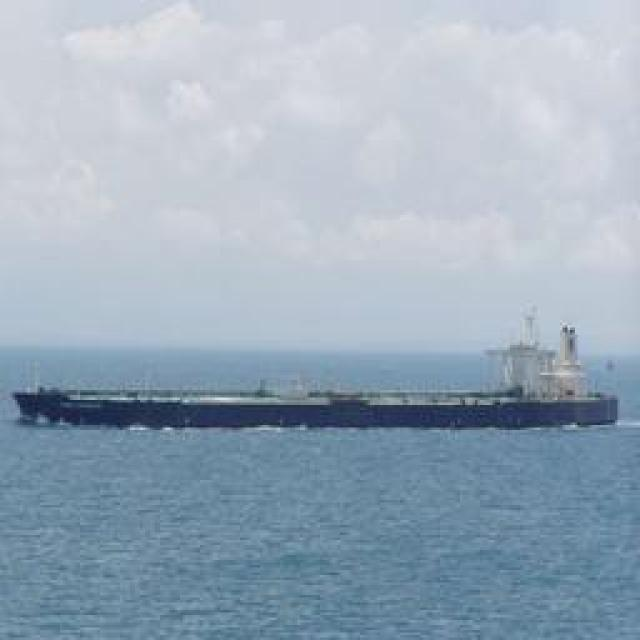ship: (19, 342, 624, 432)
